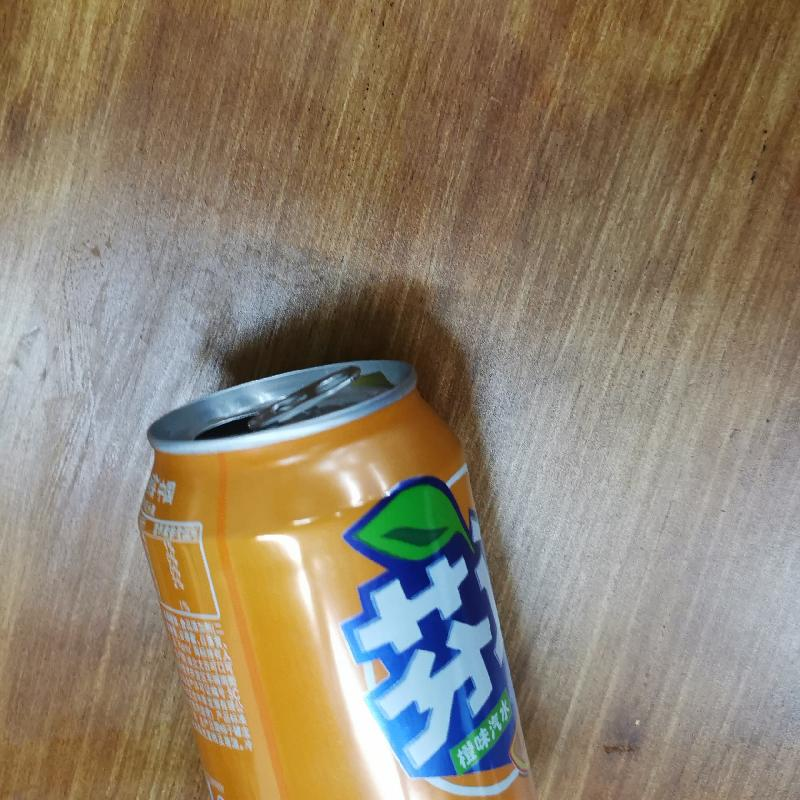cans: (136, 356, 552, 800)
